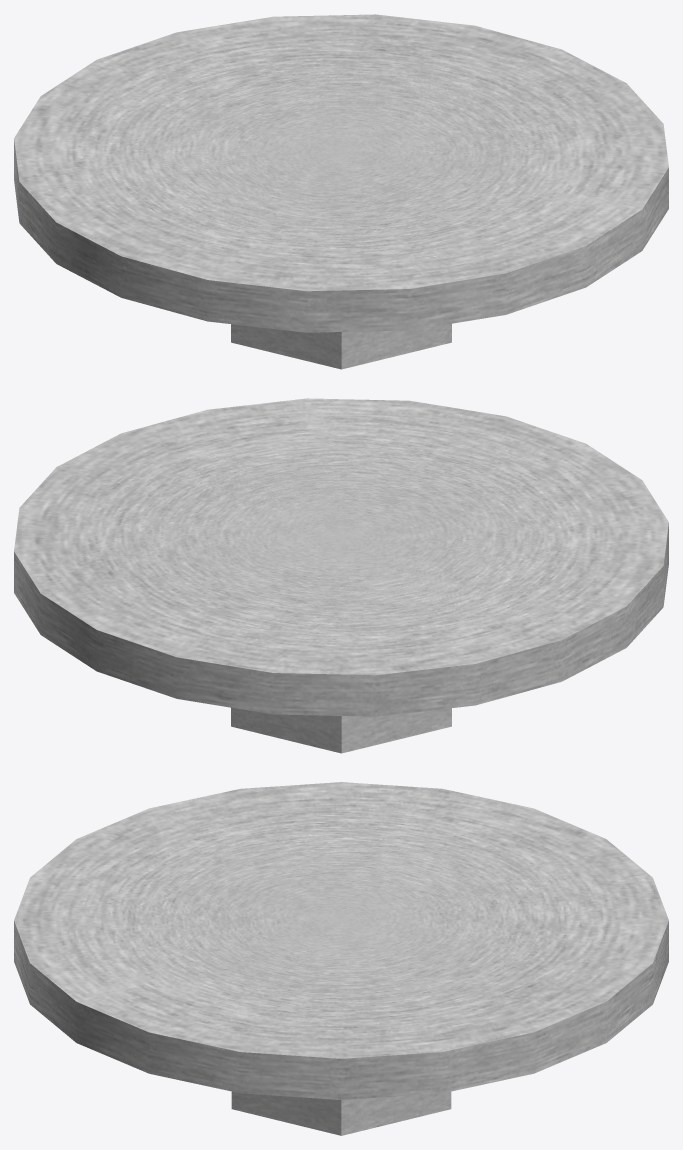
The model's file is spinner.glb.
The picture shows the model from 3 angles, top to bottom: view 1: azimuth 30°, elevation 25°; view 2: azimuth 150°, elevation 25°; view 3: azimuth 270°, elevation 25°; orthographic projection.
Parts seen in each view (by area): view 1: pCylinder7; view 2: pCylinder7; view 3: pCylinder7.
Part boxes in pixels (left/top/right/bottom): pCylinder7: left=14, top=14, right=668, bottom=369; pCylinder7: left=14, top=398, right=668, bottom=753; pCylinder7: left=14, top=782, right=668, bottom=1135.
Bounding box in the file's own units: 0.4005 × 0.1092 × 0.4005.
1 material, 1 textured.
